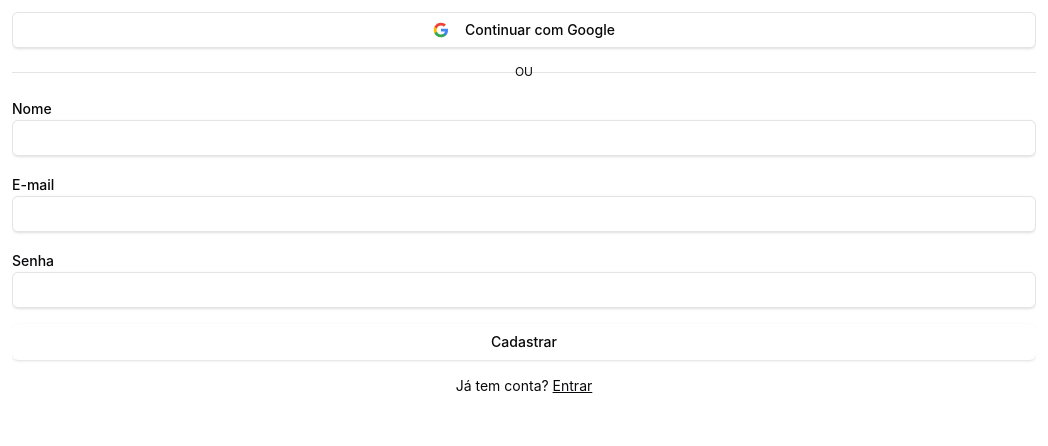
RegisterForm › erro 409 (e-mail duplicado) exibe mensagem de erro
The image size is (1048, 446).
Type "João Silva" into the field labelled "Nome" at (524, 138), box [12,120,1036,156]
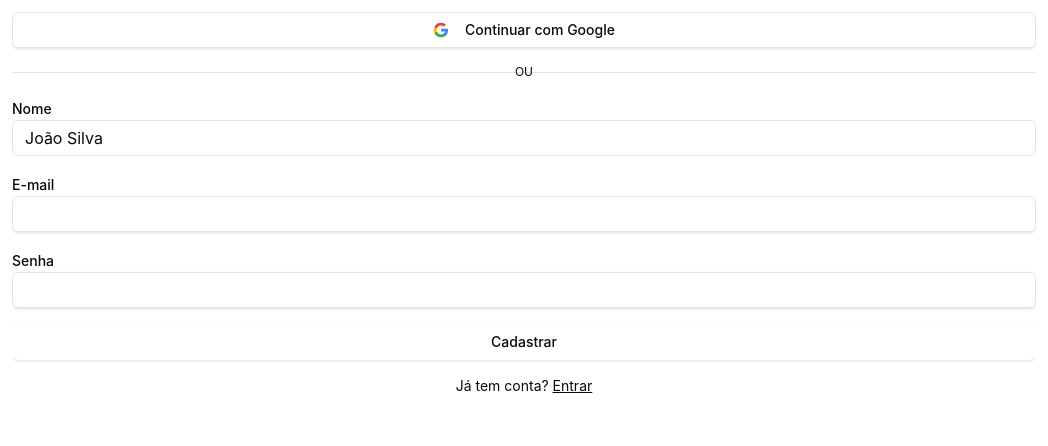
Type "duplicado@example.com" into the field labelled "E-mail" at (524, 214), box [12,196,1036,232]
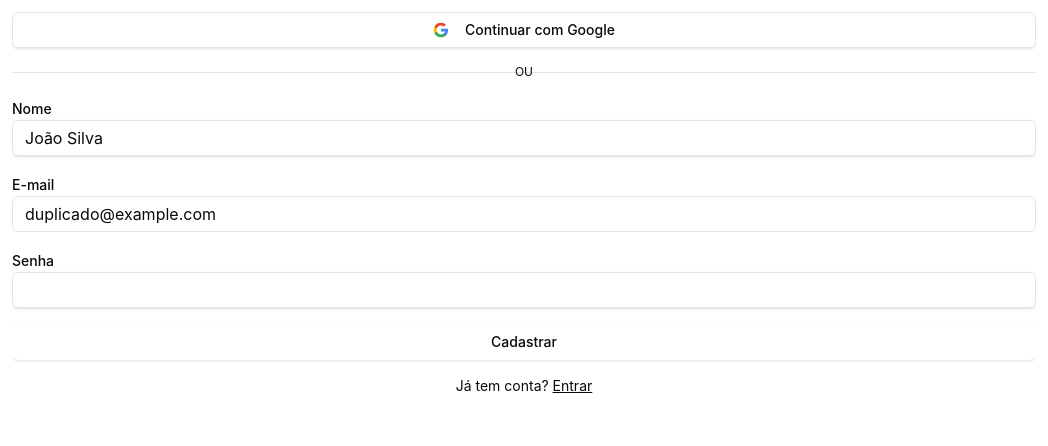
Type "Senha123" into the password field labelled "Senha" at (524, 290), box [12,272,1036,308]
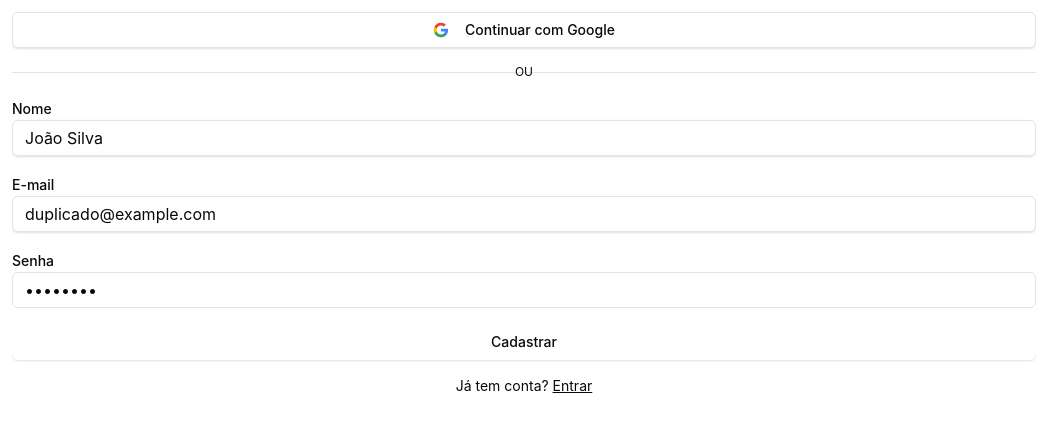
Click the button "Cadastrar" at (524, 342), box [12,324,1036,360]
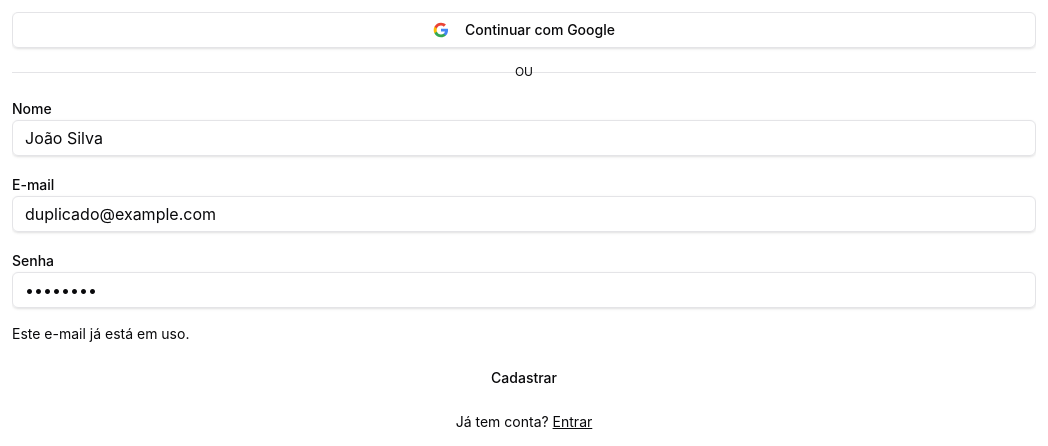
Expected: the message "Este e-mail já está em uso." is shown, [12,325,190,342]
